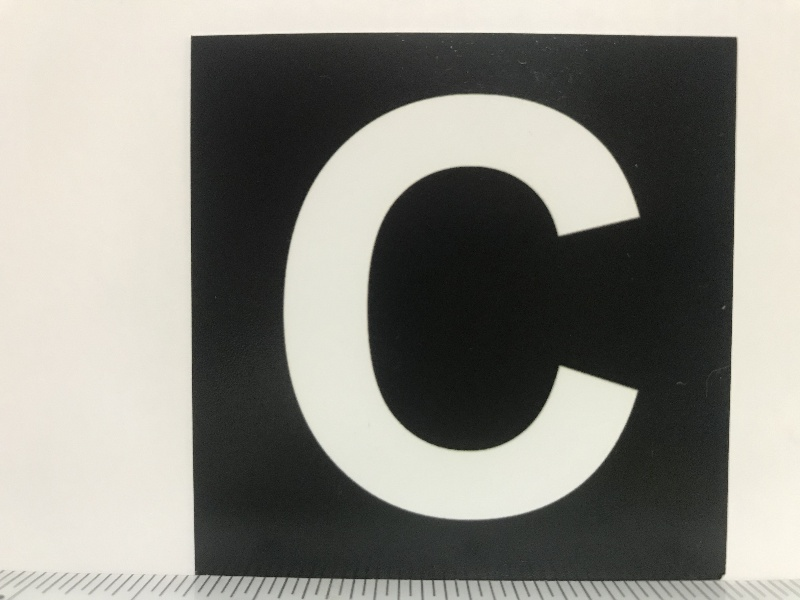C-13: (198, 42, 721, 574)
